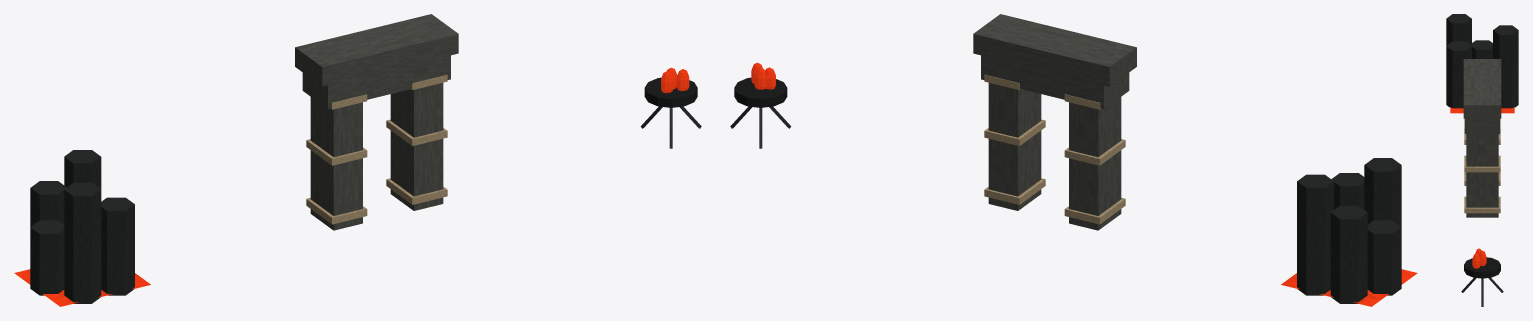
File: KIT_the_maw.gltf
3 views of the same model, side by side, from view 1: azimuth 30°, elevation 25°; view 2: azimuth 150°, elevation 25°; view 3: azimuth 270°, elevation 25° (orthographic). The views are drawn at different scales.
Parts seen in each view (by area): view 1: 02_arch, 01_basalt, 03_brazier; view 2: 02_arch, 01_basalt, 03_brazier; view 3: 02_arch, 01_basalt, 03_brazier.
Part boxes in pixels (left/top/right/bottom): 02_arch: left=295, top=14, right=458, bottom=230; 01_basalt: left=14, top=150, right=150, bottom=306; 03_brazier: left=640, top=67, right=701, bottom=148; 02_arch: left=973, top=14, right=1136, bottom=230; 01_basalt: left=1281, top=158, right=1417, bottom=306; 03_brazier: left=730, top=62, right=791, bottom=148; 02_arch: left=1463, top=59, right=1501, bottom=217; 01_basalt: left=1446, top=14, right=1518, bottom=113; 03_brazier: left=1461, top=248, right=1503, bottom=306.
Size of the model in its own units: 12.45 by 3.01 by 1.69.
6 materials, 6 textured.
